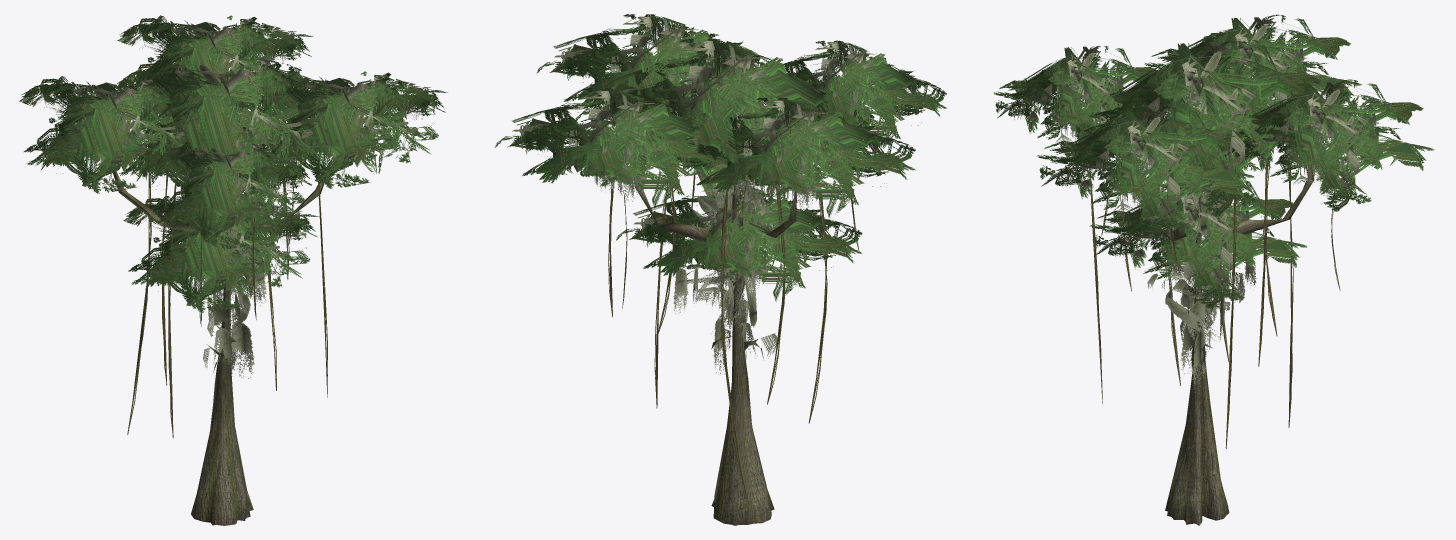
The model's file is jungle.glb.
3 views of the same model, side by side, from view 1: azimuth 30°, elevation 25°; view 2: azimuth 150°, elevation 25°; view 3: azimuth 270°, elevation 25° (orthographic). The views are drawn at different scales.
Parts seen in each view (by area): view 1: bald_cypress_03:Mesh_bald_cypress_03:Leaves_4_0_29, bald_cypress_03:Mesh_bald_cypress_03:Leaves_4_0.005_48, bald_cypress_03:Mesh_bald_cypress_03:Leaves_4_0.004_47, bald_cypress_03:Mesh_bald_cypress_03:Leaves_4_0.003_46, bald_cypress_03:Mesh_bald_cypress_03:Leaves_4_0.002_45, bald_cypress_03:Mesh_bald_cypress_03:Leaves_4_0.001_44, cypres_chauve_cypreschauve_bark_D_cypreschauve_bark_D_0_2, cypres_chauve_CypresChauve_mousse_D_CypresChauve_mousse_D_0_, pCylinder8_Vine01_0.007_19, bald_cypress_03:Mesh_bald_cypress_03:Branches_3_0.002_61, pCylinder8_Vine01_0.008_20, pCylinder8_Vine01_0.012_24 (+1 smaller); view 2: bald_cypress_03:Mesh_bald_cypress_03:Leaves_4_0.001_44, bald_cypress_03:Mesh_bald_cypress_03:Leaves_4_0.004_47, bald_cypress_03:Mesh_bald_cypress_03:Leaves_4_0.003_46, bald_cypress_03:Mesh_bald_cypress_03:Leaves_4_0_29, bald_cypress_03:Mesh_bald_cypress_03:Leaves_4_0.005_48, bald_cypress_03:Mesh_bald_cypress_03:Leaves_4_0.002_45, cypres_chauve_cypreschauve_bark_D_cypreschauve_bark_D_0_2, cypres_chauve_CypresChauve_mousse_D_CypresChauve_mousse_D_0_, pCylinder8_Vine01_0.007_19, bald_cypress_03:Mesh_bald_cypress_03:Branches_3_0_59, pCylinder8_Vine01_0.008_20, pCylinder8_Vine01_0.005_17 (+2 smaller); view 3: bald_cypress_03:Mesh_bald_cypress_03:Leaves_4_0_29, bald_cypress_03:Mesh_bald_cypress_03:Leaves_4_0.005_48, bald_cypress_03:Mesh_bald_cypress_03:Leaves_4_0.001_44, bald_cypress_03:Mesh_bald_cypress_03:Leaves_4_0.003_46, bald_cypress_03:Mesh_bald_cypress_03:Leaves_4_0.002_45, bald_cypress_03:Mesh_bald_cypress_03:Leaves_4_0.004_47, cypres_chauve_cypreschauve_bark_D_cypreschauve_bark_D_0_2, cypres_chauve_CypresChauve_mousse_D_CypresChauve_mousse_D_0_, bald_cypress_03:Mesh_bald_cypress_03:Branches_3_0_59, pCylinder8_Vine01_0.011_23, pCylinder8_Vine01_0.007_19, pCylinder8_Vine01_0.012_24 (+2 smaller).
Part boxes in pixels (box(x1,y1,x2,y2)): bald_cypress_03:Mesh_bald_cypress_03:Leaves_4_0_29: box(114, 54, 337, 197); bald_cypress_03:Mesh_bald_cypress_03:Leaves_4_0.005_48: box(257, 71, 447, 188); bald_cypress_03:Mesh_bald_cypress_03:Leaves_4_0.004_47: box(19, 76, 205, 193); bald_cypress_03:Mesh_bald_cypress_03:Leaves_4_0.003_46: box(123, 196, 319, 312); bald_cypress_03:Mesh_bald_cypress_03:Leaves_4_0.002_45: box(152, 141, 311, 249); bald_cypress_03:Mesh_bald_cypress_03:Leaves_4_0.001_44: box(117, 15, 312, 113); cypres_chauve_cypreschauve_bark_D_cypreschauve_bark_D_0_2: box(191, 72, 271, 525); cypres_chauve_CypresChauve_mousse_D_CypresChauve_mousse_D_0_: box(176, 127, 266, 382); pCylinder8_Vine01_0.007_19: box(127, 171, 151, 434); bald_cypress_03:Mesh_bald_cypress_03:Branches_3_0.002_61: box(112, 171, 198, 233); pCylinder8_Vine01_0.008_20: box(168, 174, 176, 437); pCylinder8_Vine01_0.012_24: box(318, 182, 327, 397); bald_cypress_03:Mesh_bald_cypress_03:Leaves_4_0.001_44: box(495, 88, 727, 208); bald_cypress_03:Mesh_bald_cypress_03:Leaves_4_0.004_47: box(688, 97, 915, 217); bald_cypress_03:Mesh_bald_cypress_03:Leaves_4_0.003_46: box(616, 184, 862, 301); bald_cypress_03:Mesh_bald_cypress_03:Leaves_4_0_29: box(575, 38, 874, 206); bald_cypress_03:Mesh_bald_cypress_03:Leaves_4_0.005_48: box(536, 14, 778, 114); bald_cypress_03:Mesh_bald_cypress_03:Leaves_4_0.002_45: box(780, 40, 946, 149); cypres_chauve_cypreschauve_bark_D_cypreschauve_bark_D_0_2: box(686, 58, 774, 525); cypres_chauve_CypresChauve_mousse_D_CypresChauve_mousse_D_0_: box(673, 168, 777, 374); pCylinder8_Vine01_0.007_19: box(720, 189, 747, 499); bald_cypress_03:Mesh_bald_cypress_03:Branches_3_0_59: box(634, 182, 709, 242); pCylinder8_Vine01_0.008_20: box(808, 172, 827, 423); pCylinder8_Vine01_0.005_17: box(767, 188, 785, 404); bald_cypress_03:Mesh_bald_cypress_03:Leaves_4_0_29: box(1074, 41, 1334, 217); bald_cypress_03:Mesh_bald_cypress_03:Leaves_4_0.005_48: box(1037, 107, 1254, 238); bald_cypress_03:Mesh_bald_cypress_03:Leaves_4_0.001_44: box(1220, 79, 1434, 211); bald_cypress_03:Mesh_bald_cypress_03:Leaves_4_0.003_46: box(1089, 181, 1306, 308); bald_cypress_03:Mesh_bald_cypress_03:Leaves_4_0.002_45: box(993, 46, 1167, 155); bald_cypress_03:Mesh_bald_cypress_03:Leaves_4_0.004_47: box(1144, 14, 1362, 116); cypres_chauve_cypreschauve_bark_D_cypreschauve_bark_D_0_2: box(1165, 64, 1255, 525); cypres_chauve_CypresChauve_mousse_D_CypresChauve_mousse_D_0_: box(1147, 166, 1256, 392); bald_cypress_03:Mesh_bald_cypress_03:Branches_3_0_59: box(1236, 163, 1314, 234); pCylinder8_Vine01_0.011_23: box(1225, 152, 1236, 448); pCylinder8_Vine01_0.007_19: box(1287, 150, 1293, 427); pCylinder8_Vine01_0.012_24: box(1089, 165, 1102, 403).
Size of the model in its own units: 28.98 by 30.94 by 27.89.
Materials: 9 (9 with a texture image).
